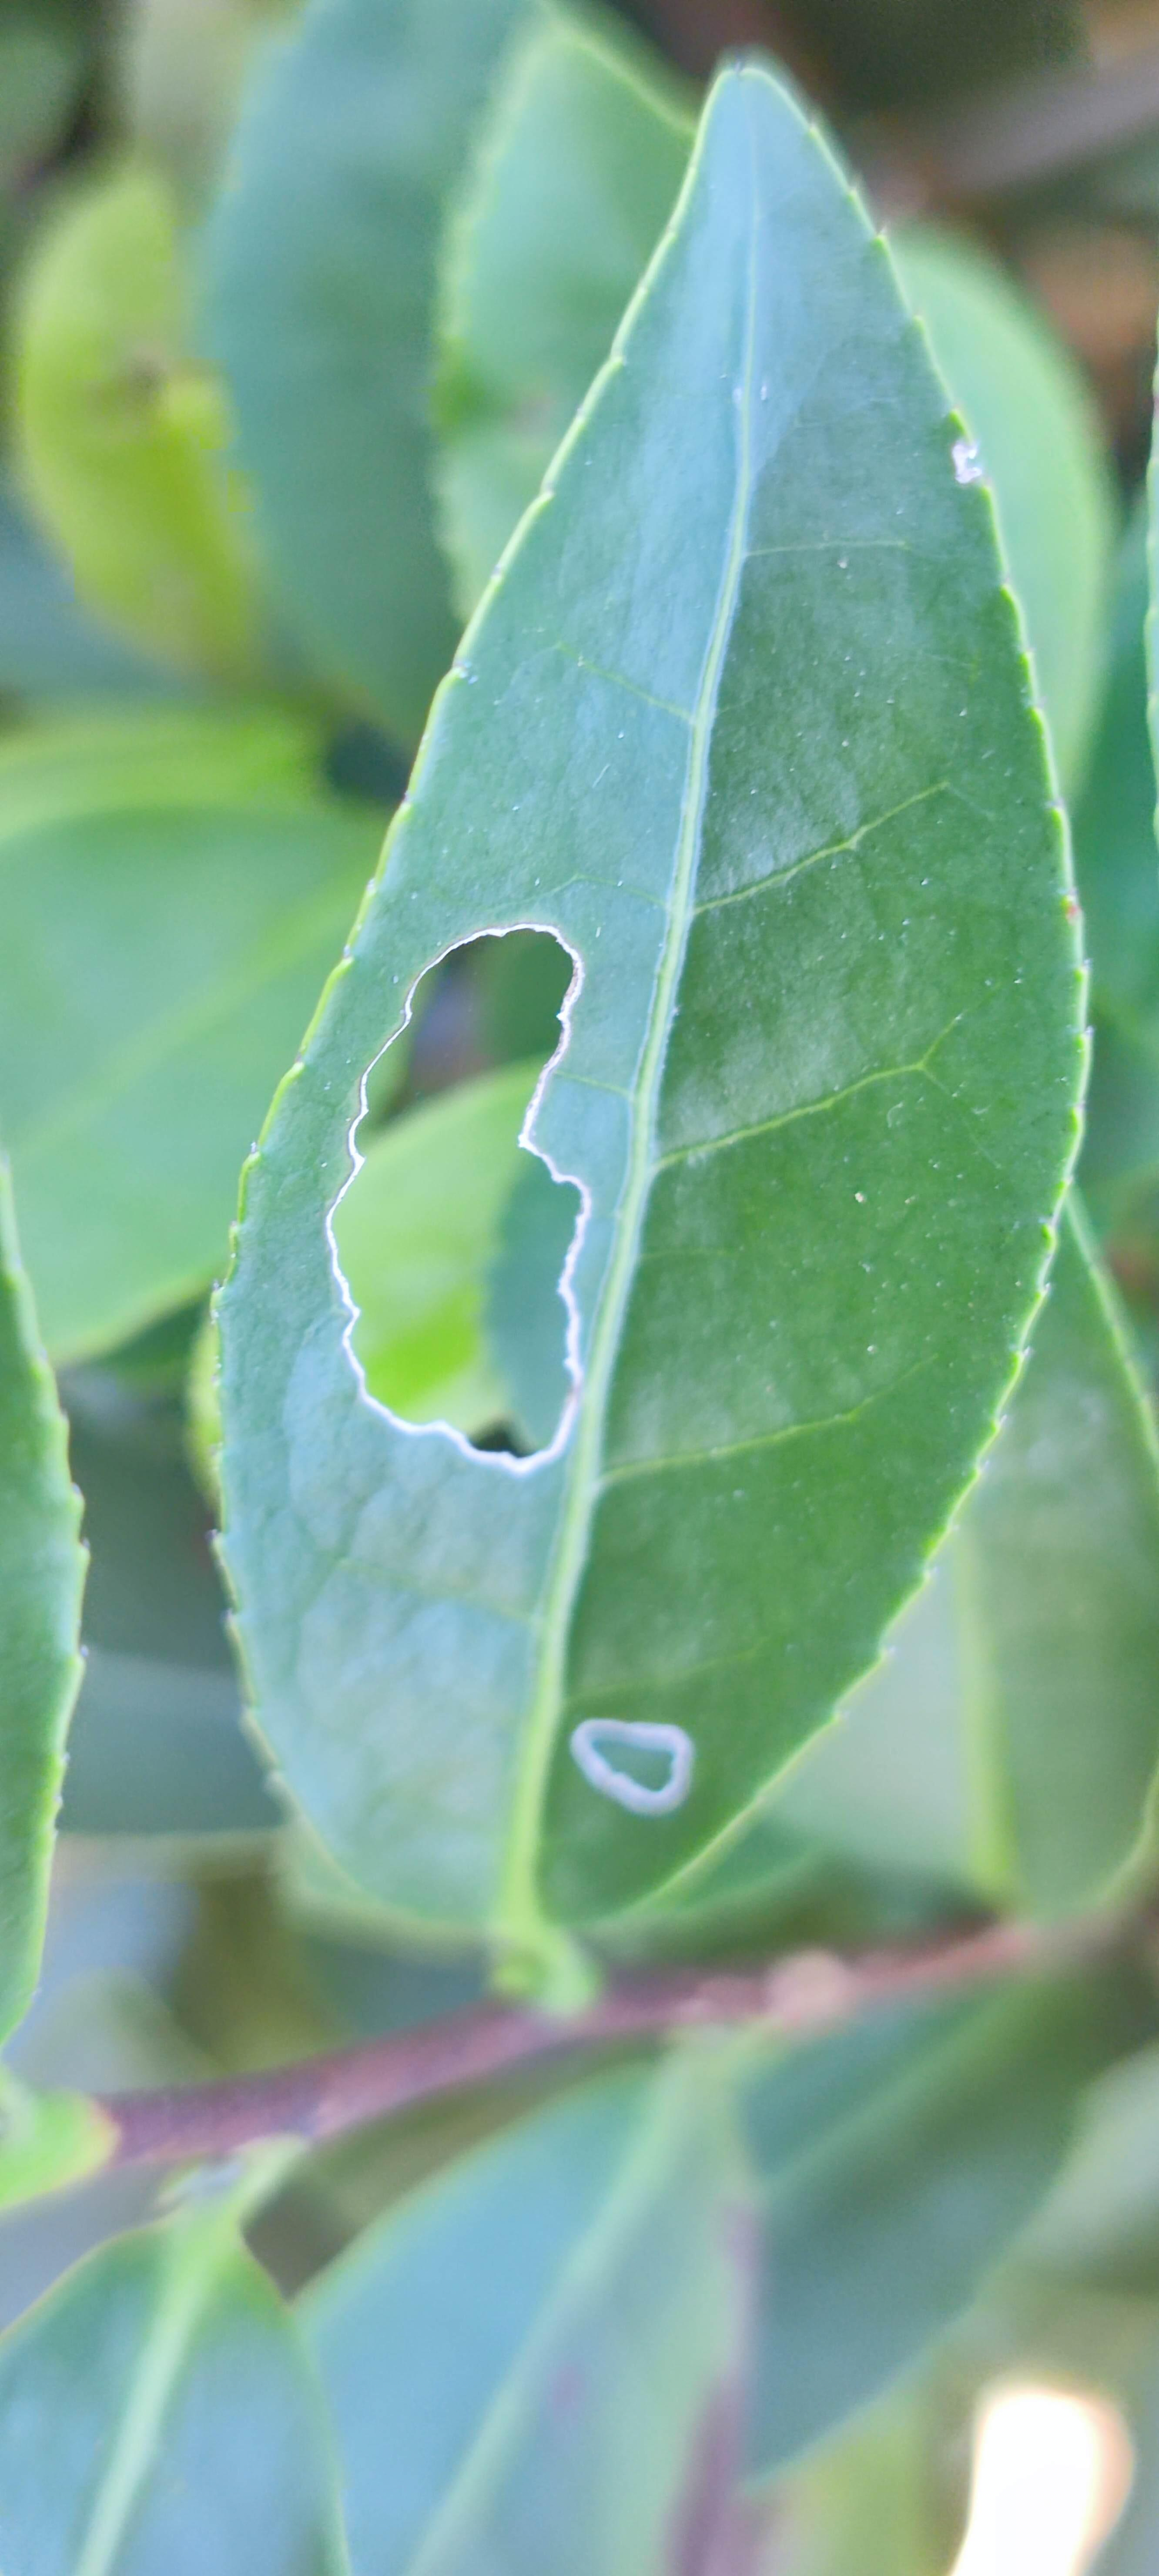chihuo_high: (202, 61, 1093, 1943)
